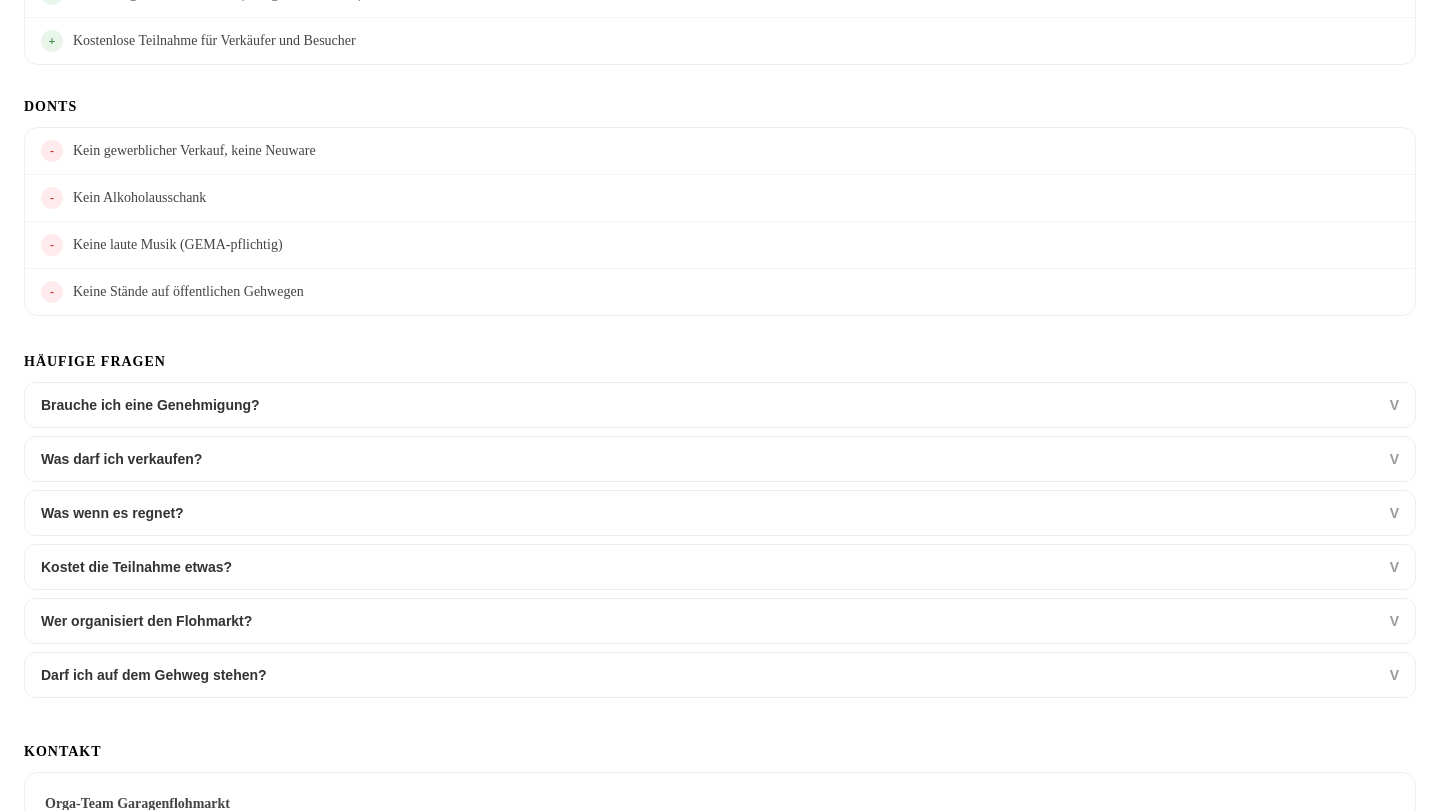
it: InfoScreen › renders FAQ and toggles answer visibility
(page scrolled)
Click the text "Brauche ich eine Genehmigung?": (150, 405) [41, 397, 260, 413]
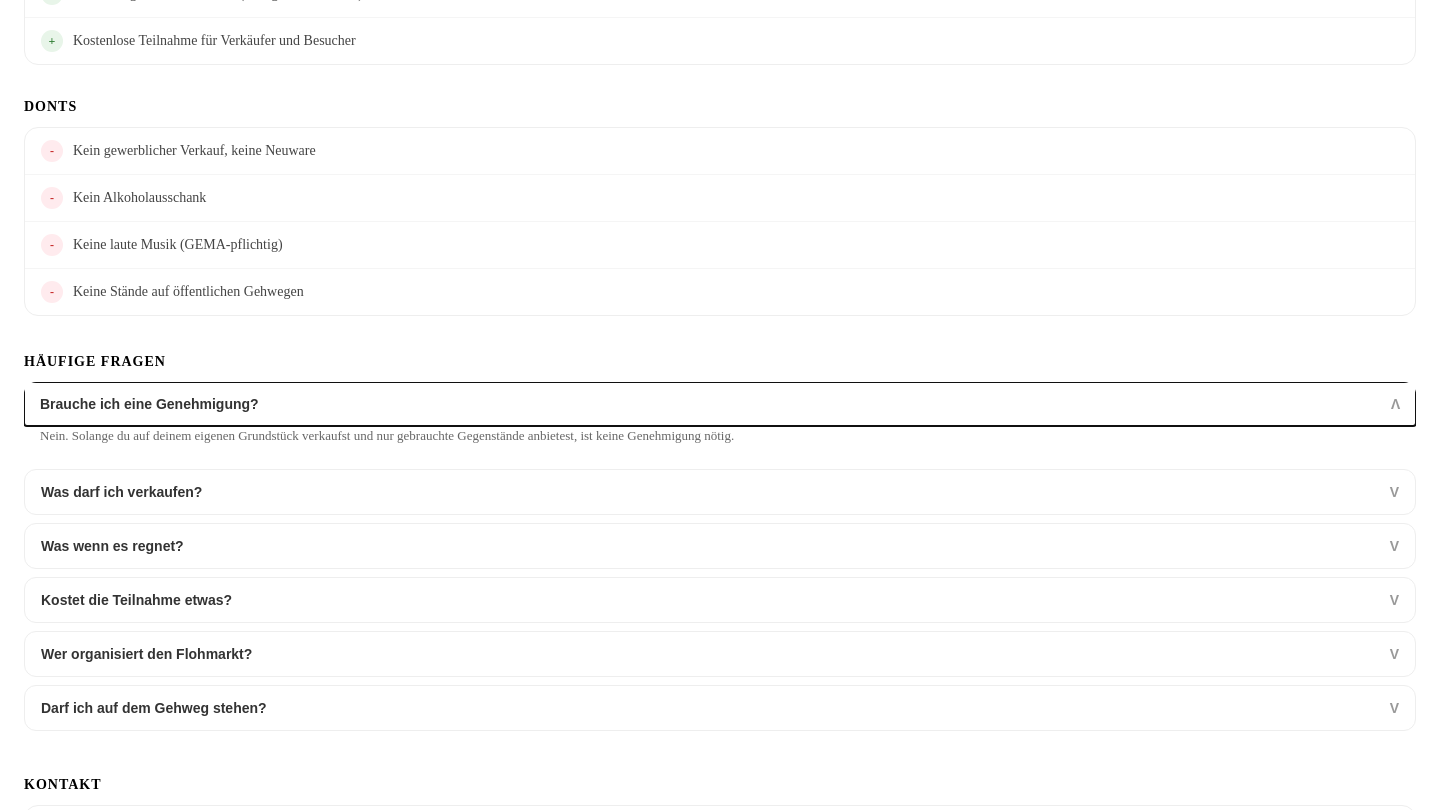
Result: the text "keine Genehmigung nötig" is shown at [40, 428, 734, 443]
Click the text "Brauche ich eine Genehmigung?": (149, 404) [40, 396, 259, 412]
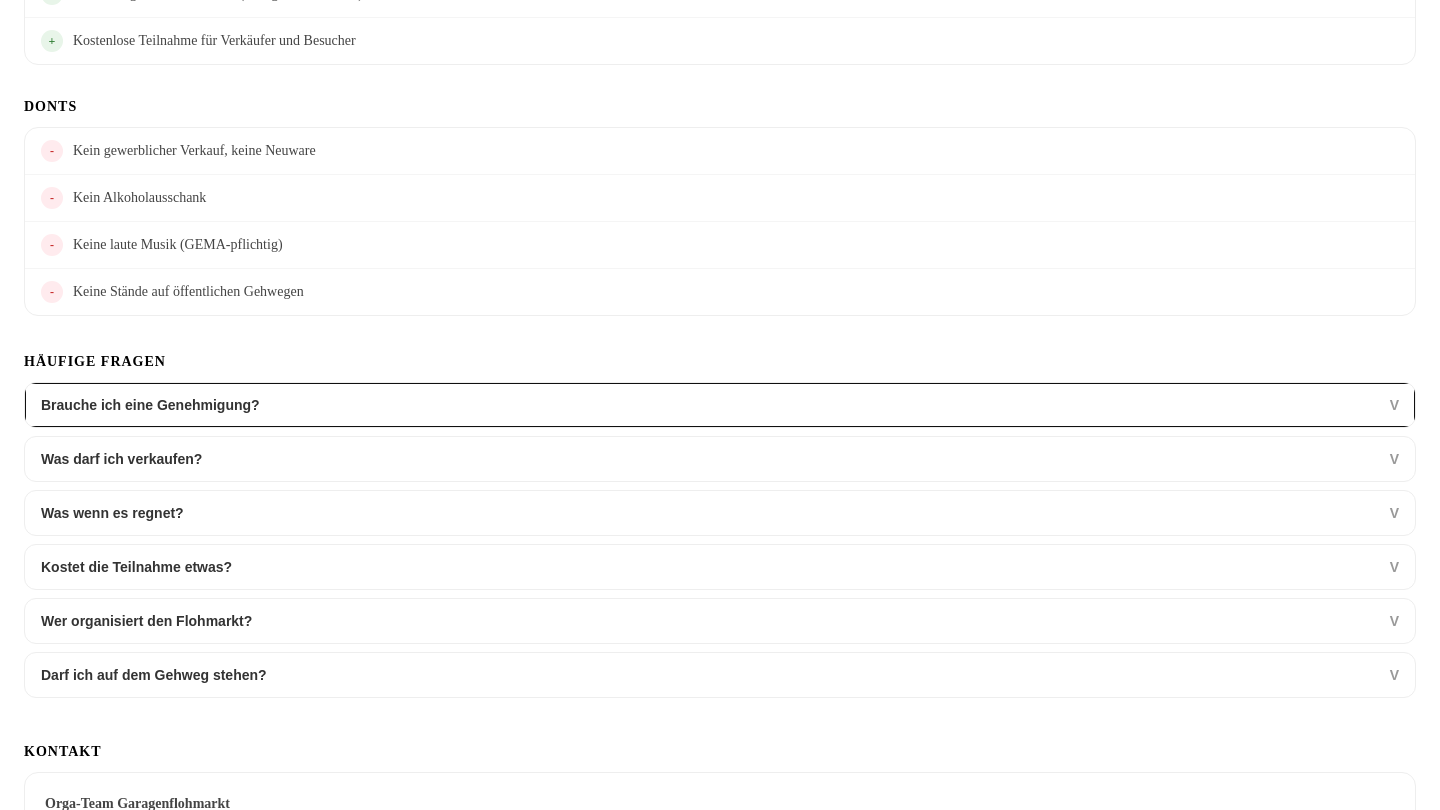
Result: the text "keine Genehmigung nötig" is gone
